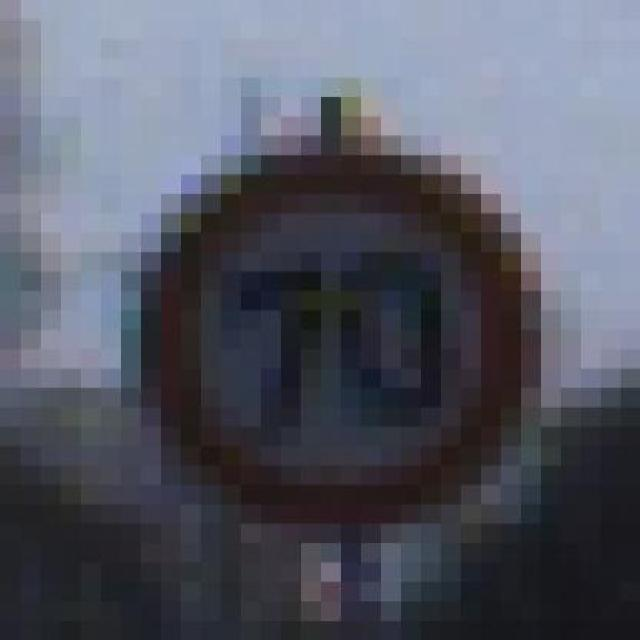forb_speed_over_70: (140, 152, 534, 526)
